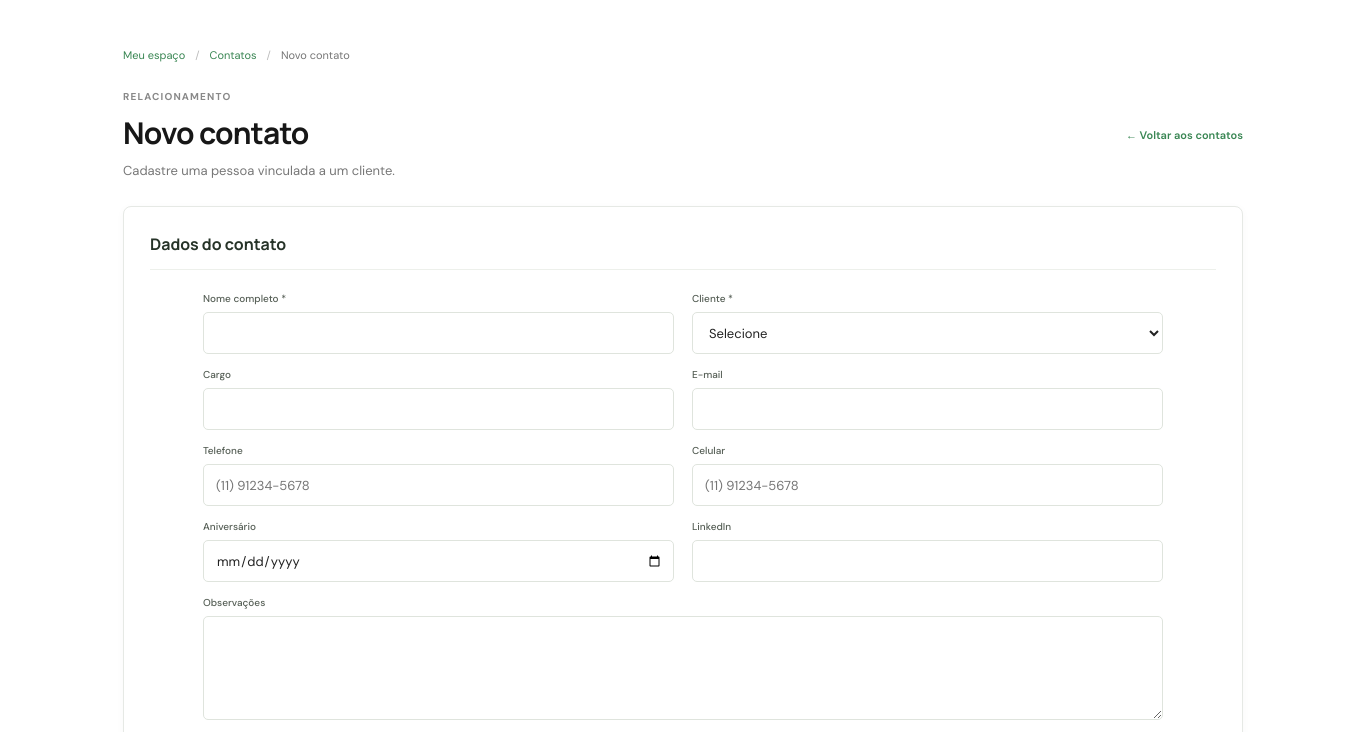
Novo contato › usa uma mensagem padrão quando a API não informa o erro
In the field labelled "Nome completo *": (438, 333) [203,312,674,354], type "Ana Souza"
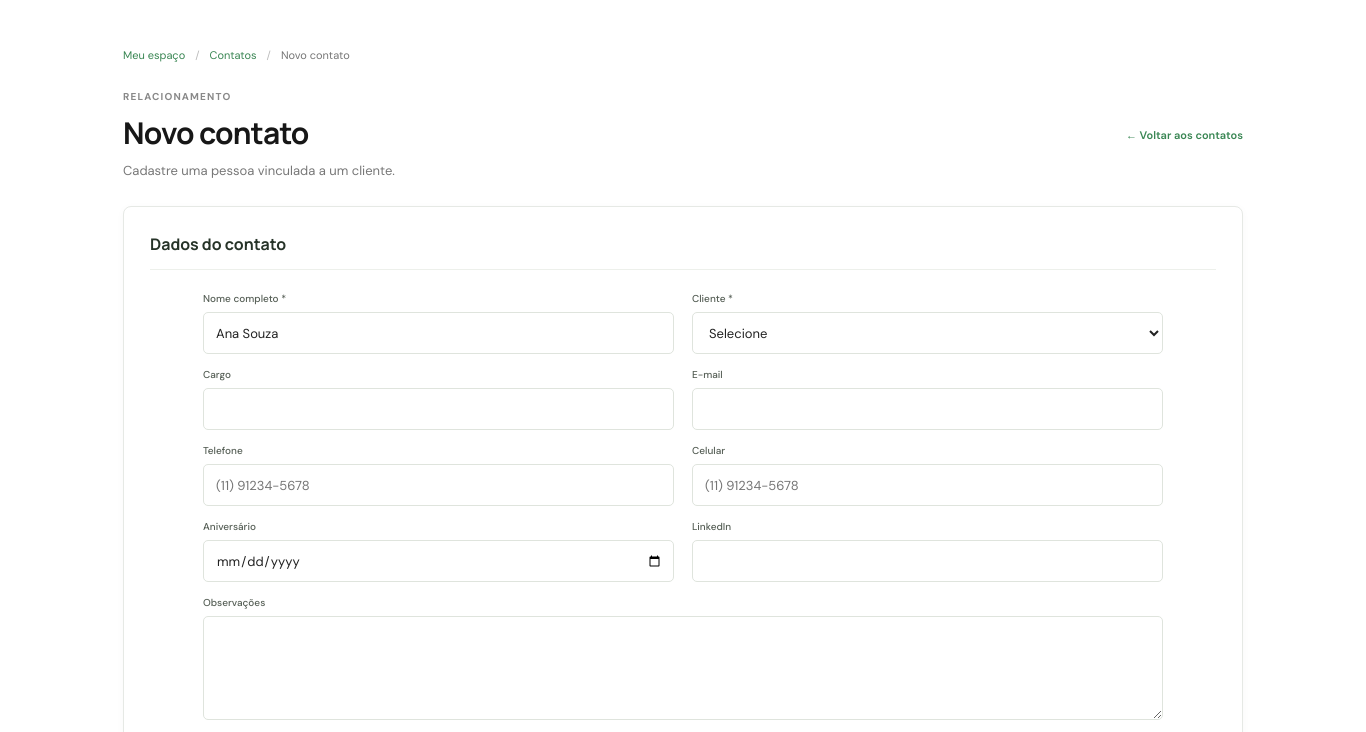
Select "Aurora Tecnologia" in the dropdown labelled "Cliente *": (928, 333) [692,312,1163,354]
(page scrolled)
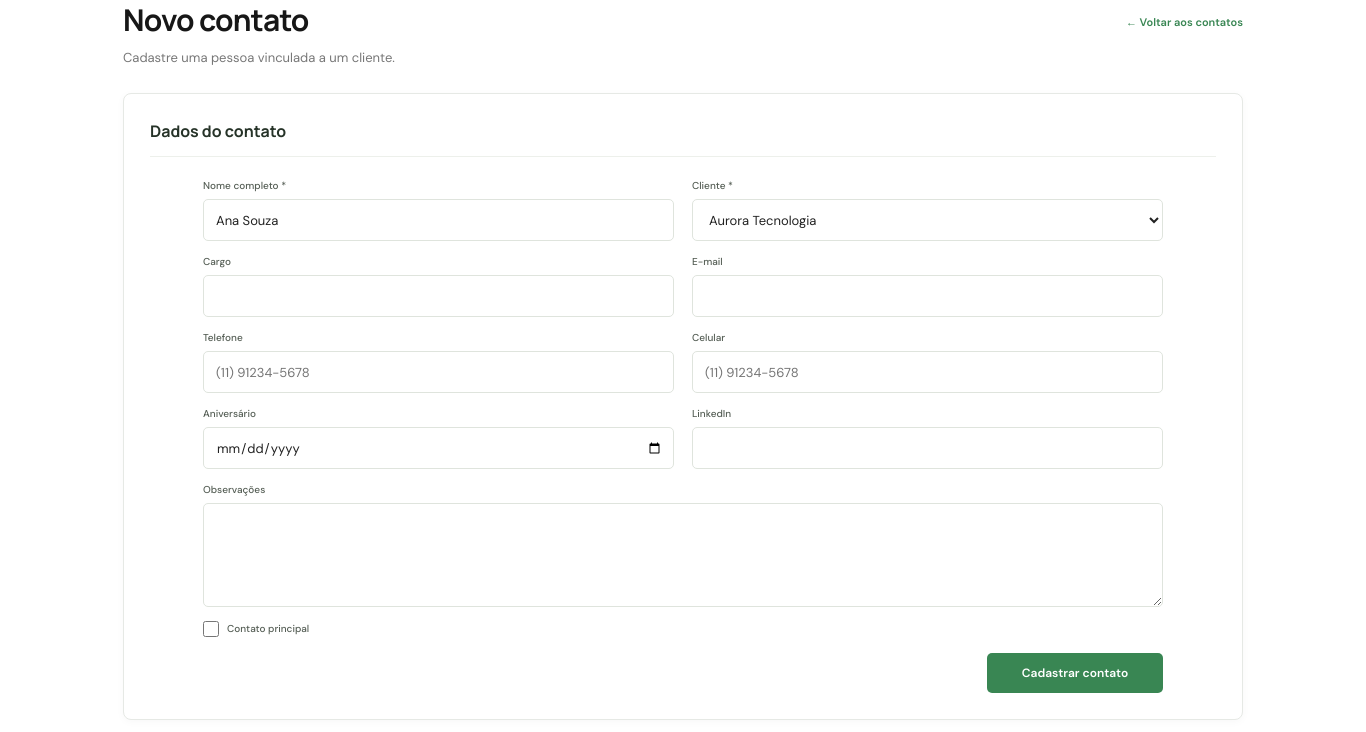
Click the button "Cadastrar contato": (1075, 673) [987,653,1163,693]
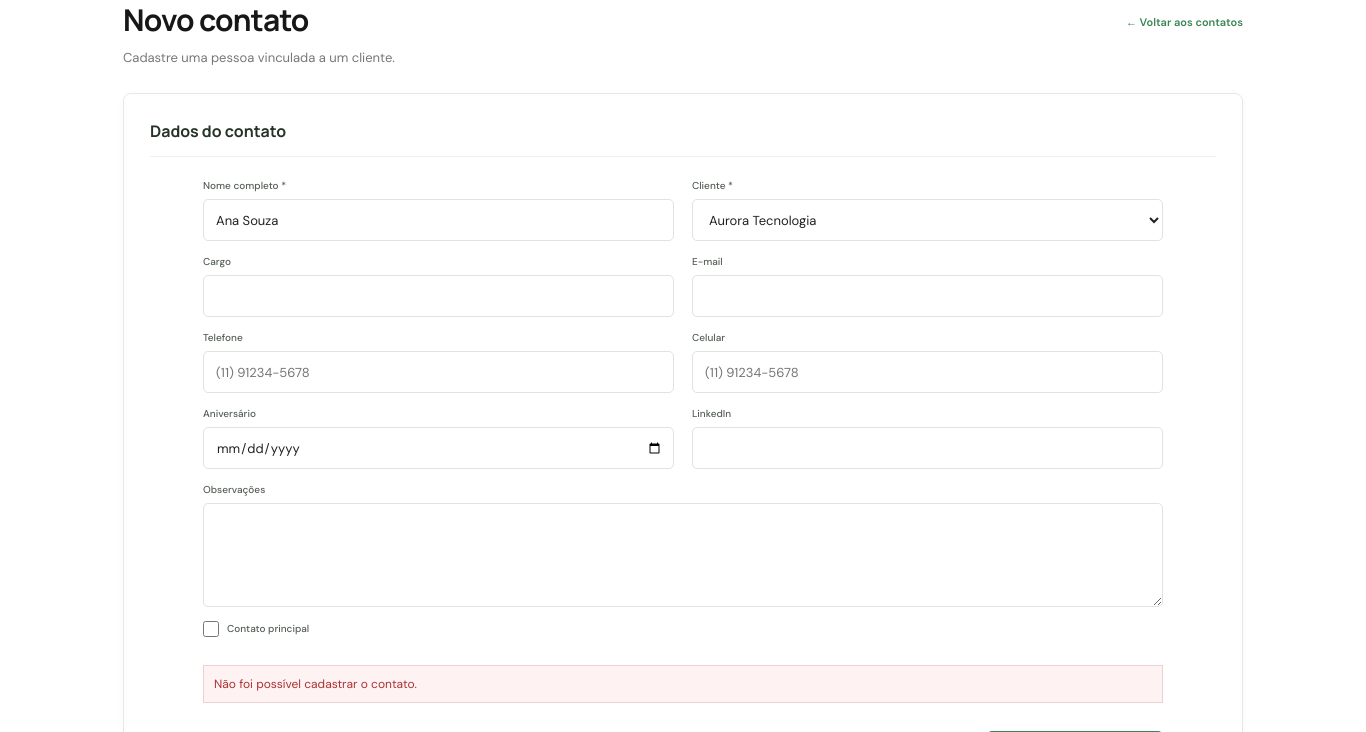
Check: the message reads "Não foi possível cadastrar o contato.", box [214,676,417,692]
